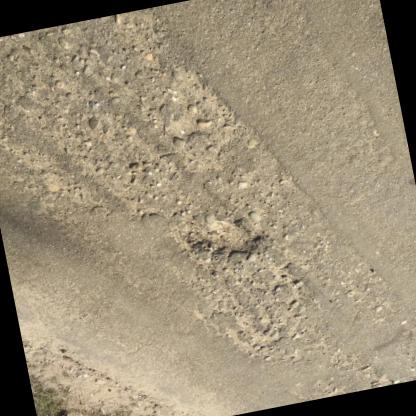pothole: (187, 210, 266, 267)
